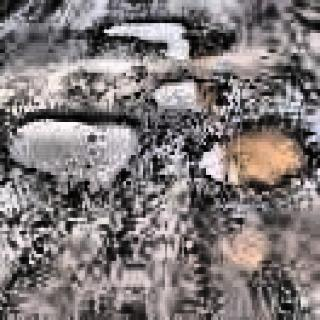pothole: (0, 84, 139, 200), (177, 122, 320, 198), (99, 23, 233, 60), (145, 75, 244, 119)
